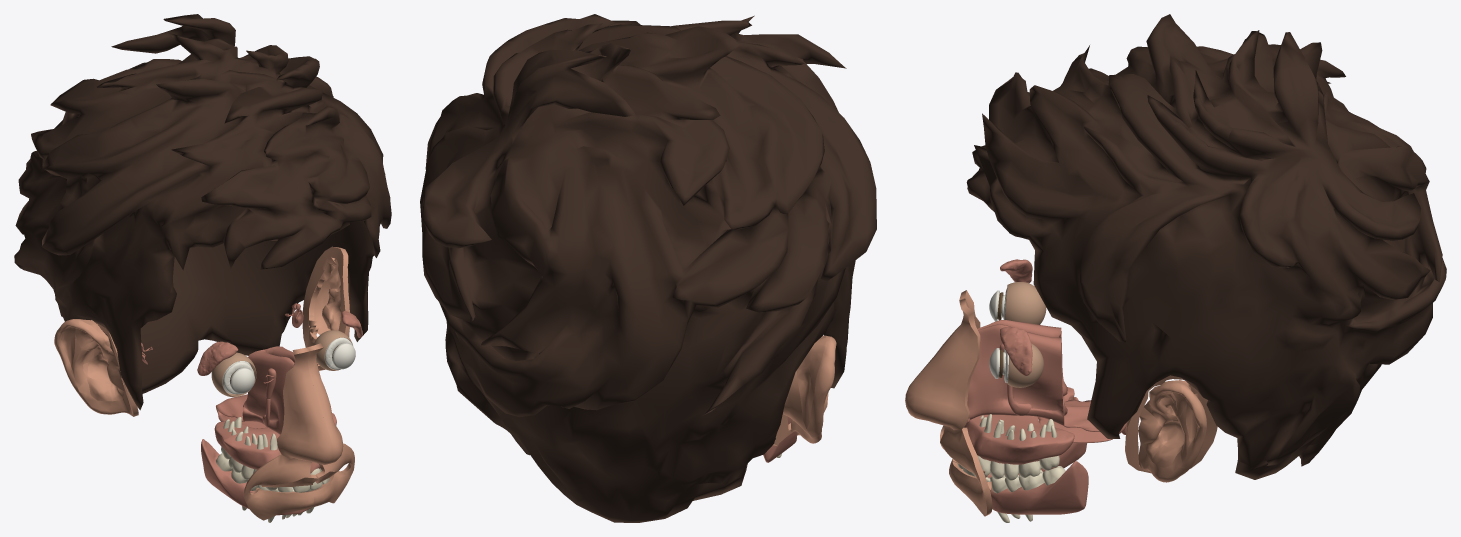
Rendered from head.glb.
3 renders of one model, left to right at view 1: azimuth 30°, elevation 25°; view 2: azimuth 150°, elevation 25°; view 3: azimuth 270°, elevation 25°, orthographic. The views are drawn at different scales.
Visible parts, largest first — view 1: hair_scalp, auricle_r, nose_surface_r, auricle_l, oral_surface_r, gingiva, nasal_mucosa, oral_surface_l, nose_surface_l, lacrimal_gland_r, soft_palate, retina_r (+3 smaller); view 2: hair_scalp, auricle_r; view 3: hair_scalp, gingiva, auricle_l, nasal_mucosa, nose_surface_l, oral_surface_l, retina_r, soft_palate, lacrimal_gland_l, retina_l.
Part boxes in pixels (bbox=[...]): hair_scalp: bbox=[14, 14, 391, 410]; auricle_r: bbox=[54, 319, 138, 416]; nose_surface_r: bbox=[277, 347, 333, 464]; auricle_l: bbox=[302, 246, 350, 370]; oral_surface_r: bbox=[243, 454, 318, 520]; gingiva: bbox=[201, 413, 336, 515]; nasal_mucosa: bbox=[242, 346, 294, 434]; oral_surface_l: bbox=[311, 443, 354, 507]; nose_surface_l: bbox=[307, 343, 343, 463]; lacrimal_gland_r: bbox=[197, 341, 238, 375]; soft_palate: bbox=[216, 394, 266, 428]; retina_r: bbox=[211, 352, 256, 397]; hair_scalp: bbox=[420, 14, 876, 522]; auricle_r: bbox=[773, 335, 836, 446]; hair_scalp: bbox=[966, 14, 1446, 479]; gingiva: bbox=[964, 387, 1088, 514]; auricle_l: bbox=[1125, 375, 1217, 482]; nasal_mucosa: bbox=[967, 320, 1067, 425]; nose_surface_l: bbox=[905, 298, 980, 429]; oral_surface_l: bbox=[940, 425, 992, 516]; retina_r: bbox=[1005, 282, 1046, 324]; soft_palate: bbox=[1038, 399, 1126, 443]; lacrimal_gland_l: bbox=[1000, 327, 1032, 375]; retina_l: bbox=[1006, 343, 1043, 387].
Bounding box in the file's own units: 0.1966 × 0.2416 × 0.2483.
